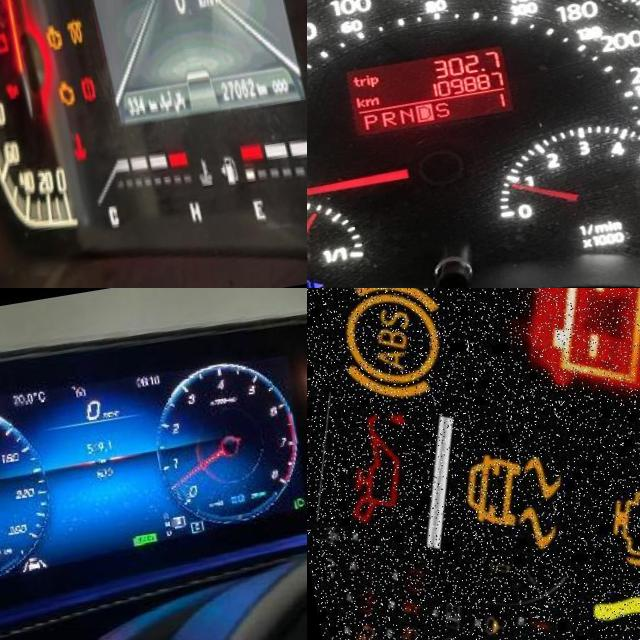High Engine Coolant Temperature: (51, 133, 71, 170)
